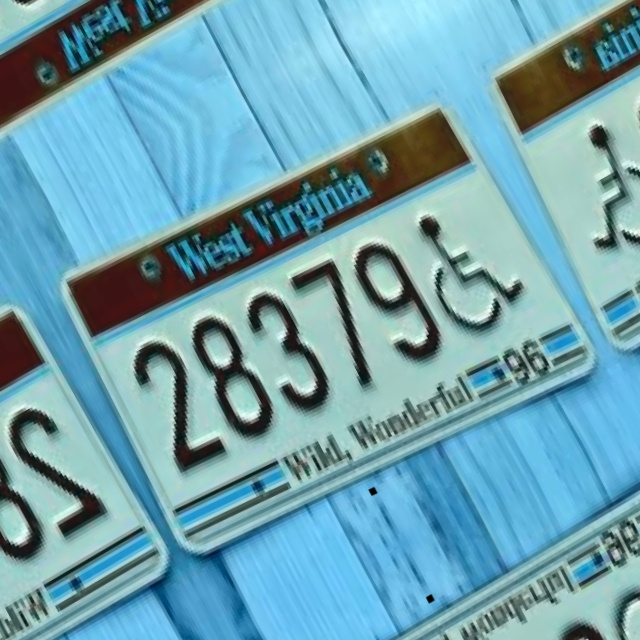ISA: (397, 187, 537, 349), (543, 109, 640, 271), (598, 564, 640, 640)
